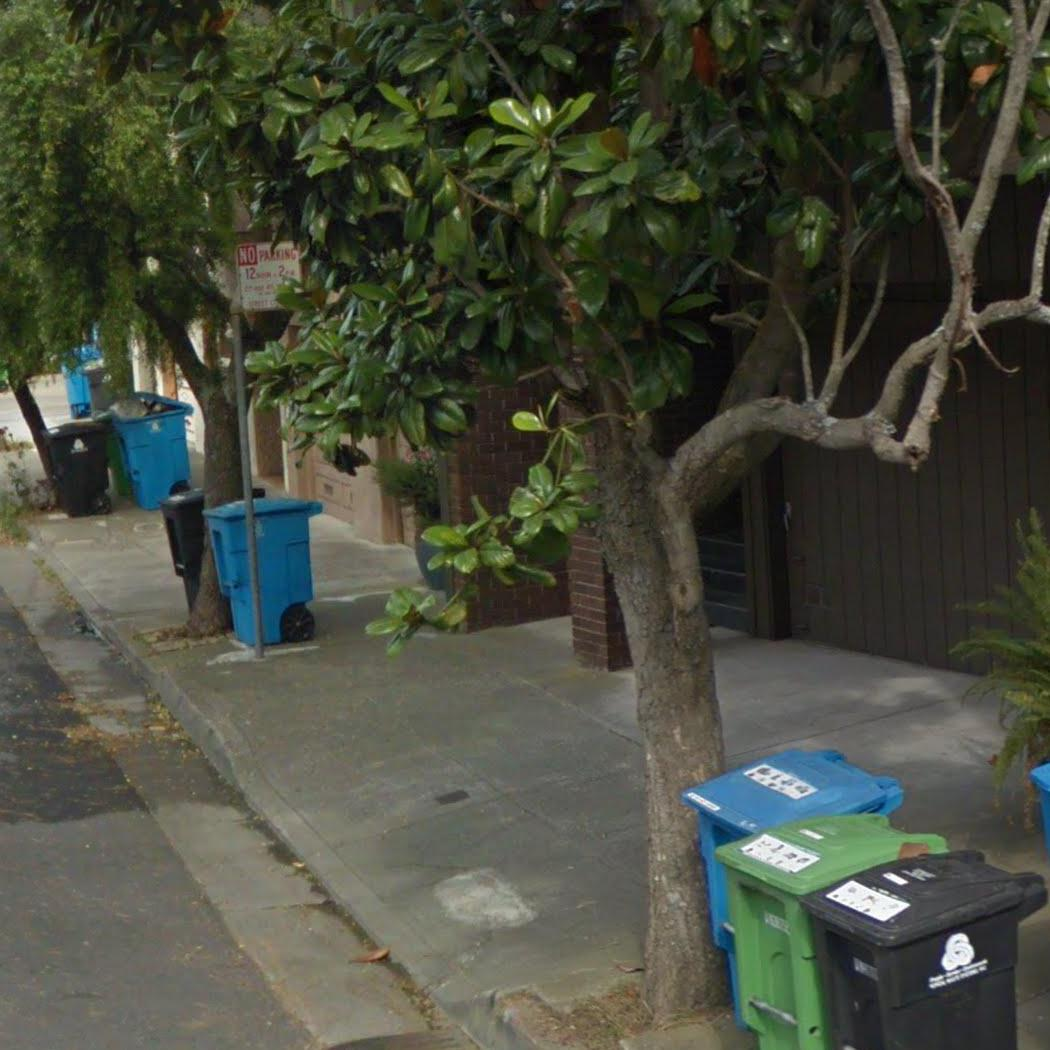No Parking: (232, 236, 307, 314)
